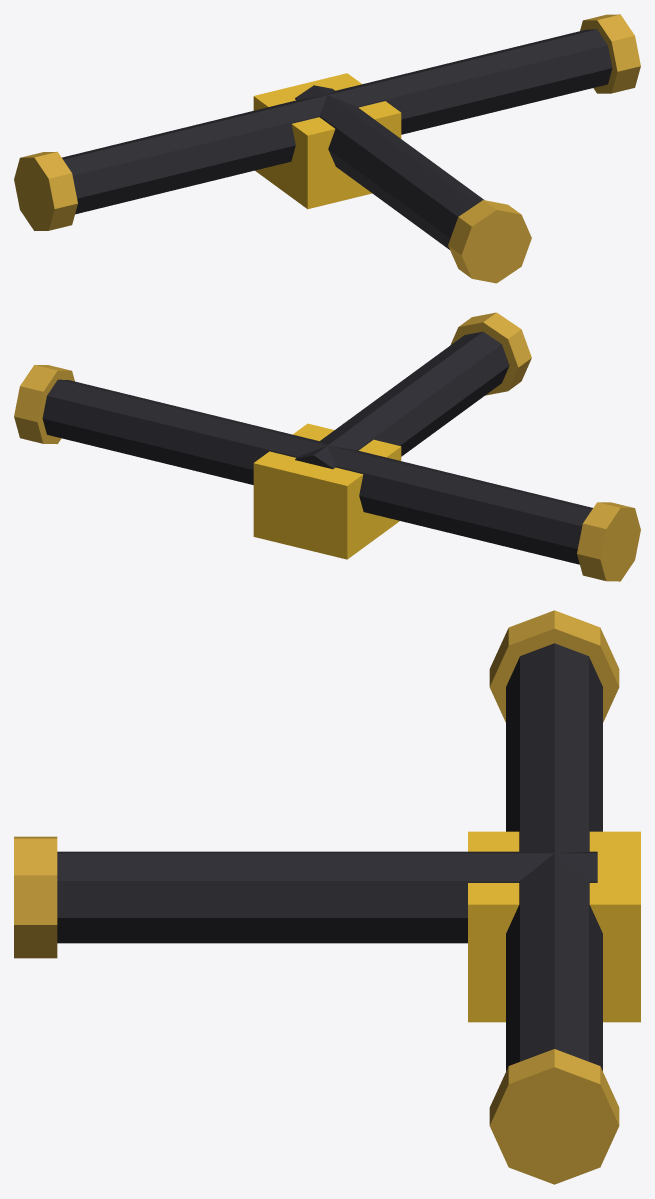
File: cable-tee.glb
3 views of the same model, one above another, from view 1: azimuth 30°, elevation 25°; view 2: azimuth 150°, elevation 25°; view 3: azimuth 270°, elevation 25° (orthographic). The views are drawn at different scales.
Parts seen in each view (by area): view 1: cable-tee; view 2: cable-tee; view 3: cable-tee.
Part boxes in pixels (box(x1,y1,x2,y2)): cable-tee: box(14, 14, 640, 283); cable-tee: box(14, 312, 640, 581); cable-tee: box(14, 610, 640, 1184).
Size of the model in its own units: 1 by 0.15 by 0.58.
Materials: 1 (1 with a texture image).
